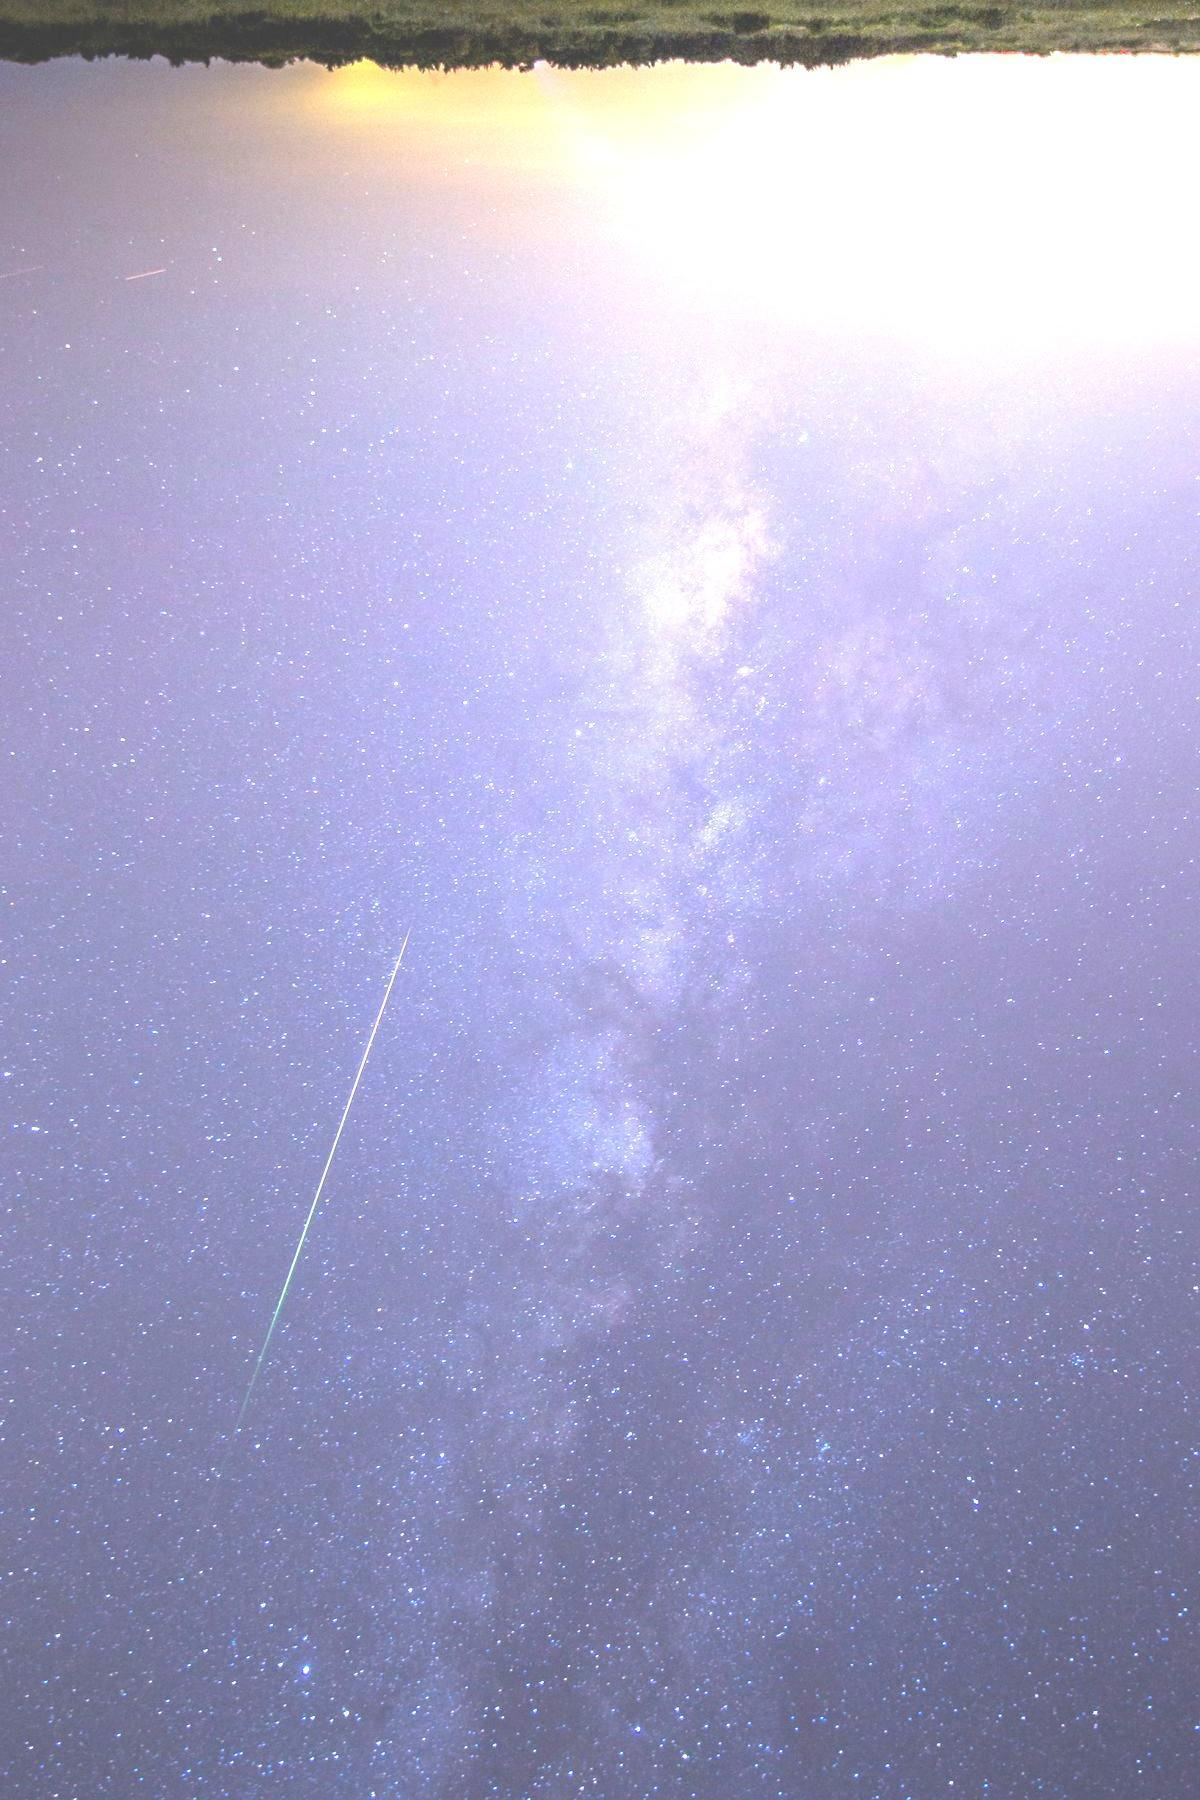meteorite: (256, 913, 437, 1321), (108, 250, 193, 305)
